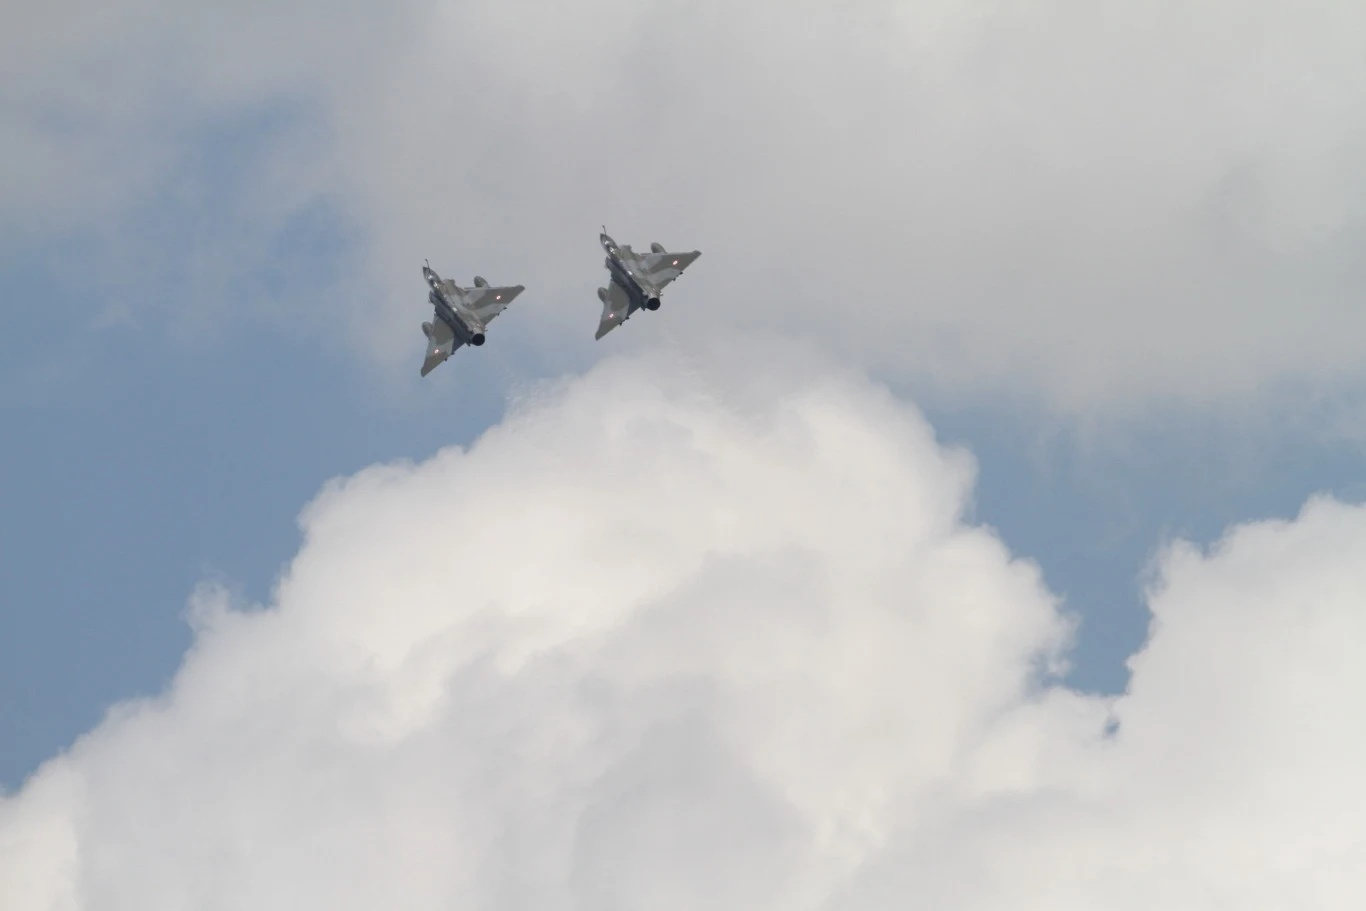Mirage2000: (594, 224, 702, 342), (420, 258, 526, 378)
